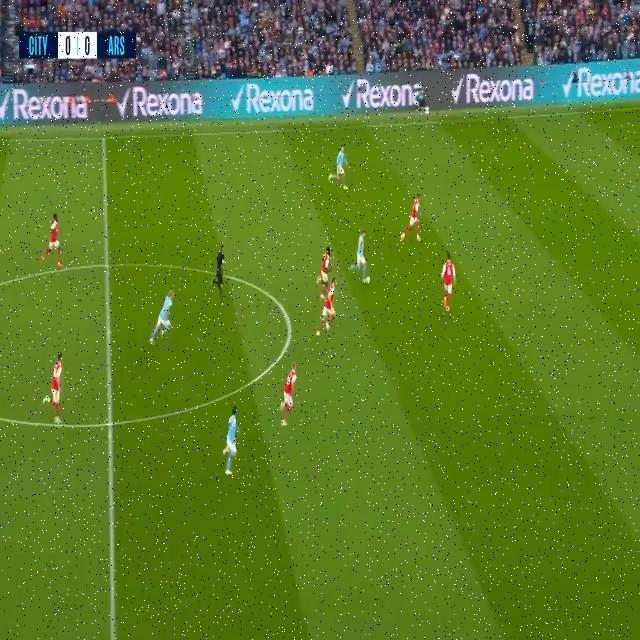ball: (361, 272, 379, 291)
player: (213, 367, 255, 501), (38, 326, 80, 420), (143, 272, 181, 371), (41, 190, 70, 288), (398, 170, 427, 250), (318, 274, 341, 356), (276, 346, 298, 430), (438, 228, 457, 324), (345, 223, 369, 297), (312, 230, 333, 302), (333, 139, 352, 195)
referee: (212, 234, 230, 307)
